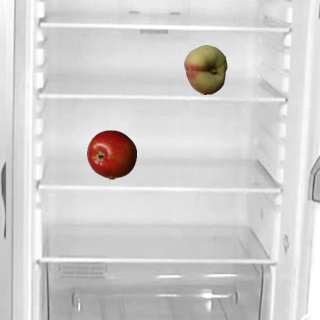Apple Braeburn: (86, 129, 136, 179)
Peach Flat: (180, 44, 230, 94)
